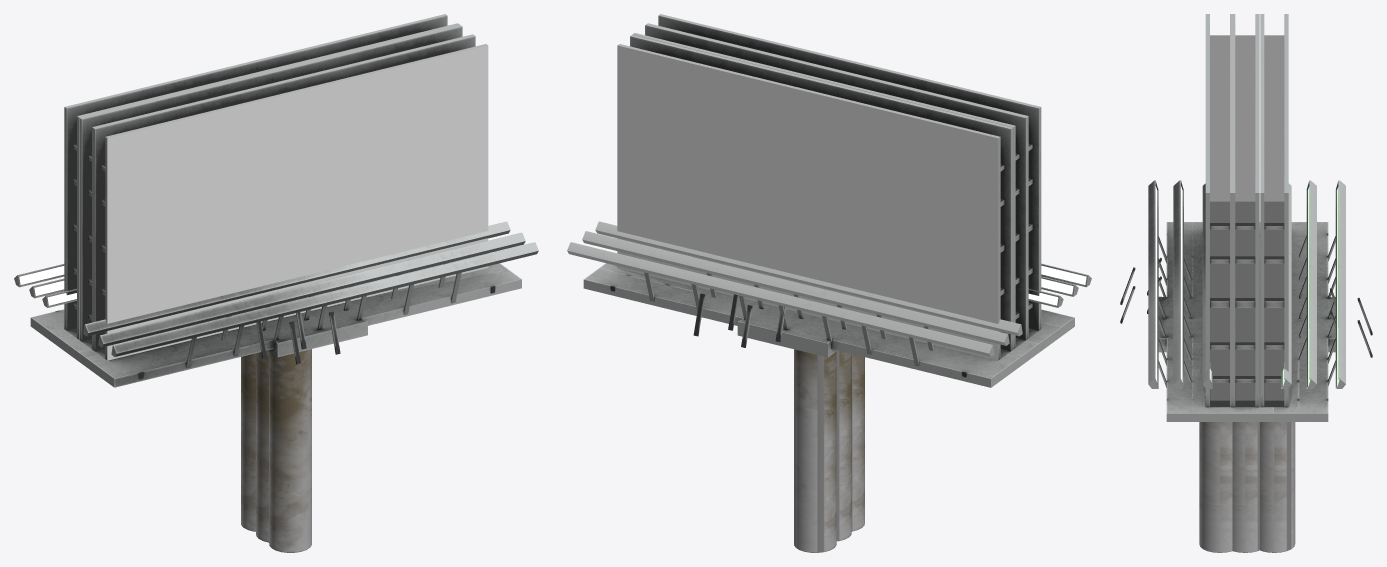
The model's file is low-poly_billboard_pack.glb.
3 views of the same model, side by side, from view 1: azimuth 30°, elevation 25°; view 2: azimuth 150°, elevation 25°; view 3: azimuth 270°, elevation 25° (orthographic). The views are drawn at different scales.
Visible parts, largest first — view 1: billboard_1, billboard_3, billboard_2; view 2: billboard_2, billboard_3, billboard_1; view 3: billboard_1, billboard_2, billboard_3.
Boxes of the visible parts, box(x1,y1,x2,y2) form: billboard_1: box(42, 34, 538, 552); billboard_3: box(29, 25, 525, 542); billboard_2: box(14, 14, 510, 531); billboard_2: box(567, 34, 1063, 552); billboard_3: box(582, 23, 1078, 541); billboard_1: box(595, 14, 1091, 531); billboard_1: box(1148, 14, 1335, 552); billboard_2: box(1147, 14, 1345, 552); billboard_3: box(1120, 14, 1372, 552).
Size of the model in its own units: 662 by 685 by 356.
Materials: 4 (1 with a texture image).
